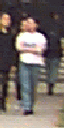person: (15, 12, 45, 103)
